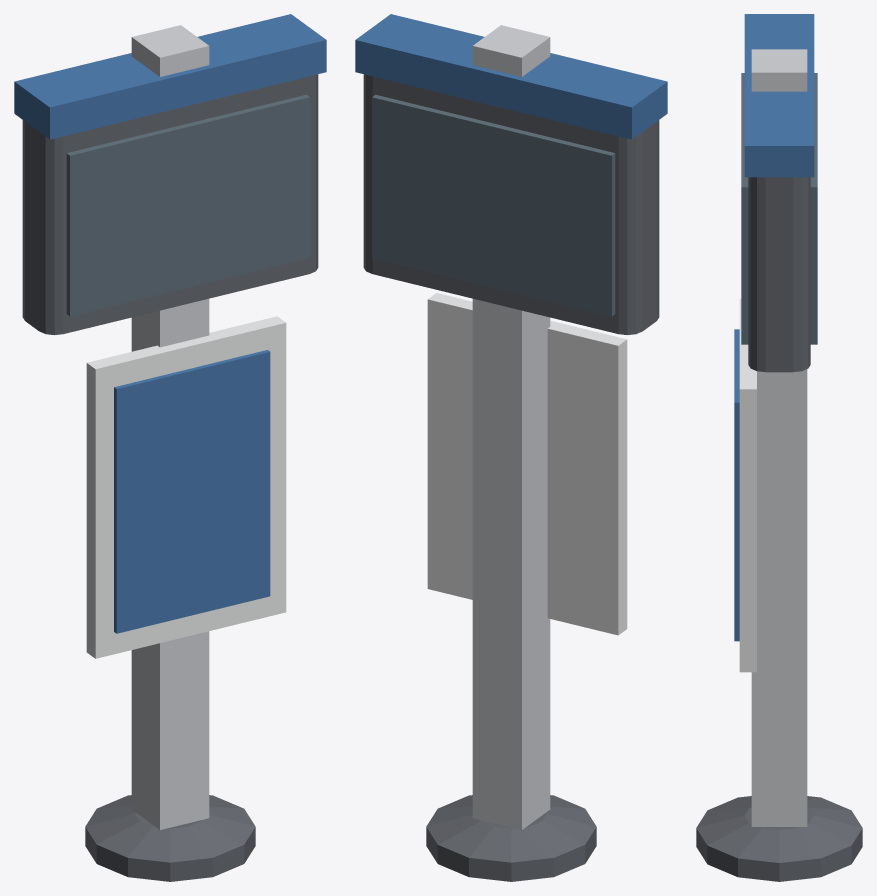
File: modern-rail-and-metro-network-information-display-1f74d599.glb
The picture shows the model from 3 angles, left to right: view 1: azimuth 30°, elevation 25°; view 2: azimuth 150°, elevation 25°; view 3: azimuth 270°, elevation 25°; orthographic projection. The views are drawn at different scales.
Visible parts, largest first — view 1: information-display; view 2: information-display; view 3: information-display.
Boxes of the visible parts, left/top/right/bottom form: information-display: left=14, top=14, right=326, bottom=881; information-display: left=355, top=14, right=667, bottom=881; information-display: left=696, top=14, right=862, bottom=881.
Bounding box in the file's own units: 0.9 × 2.5 × 0.4799.
